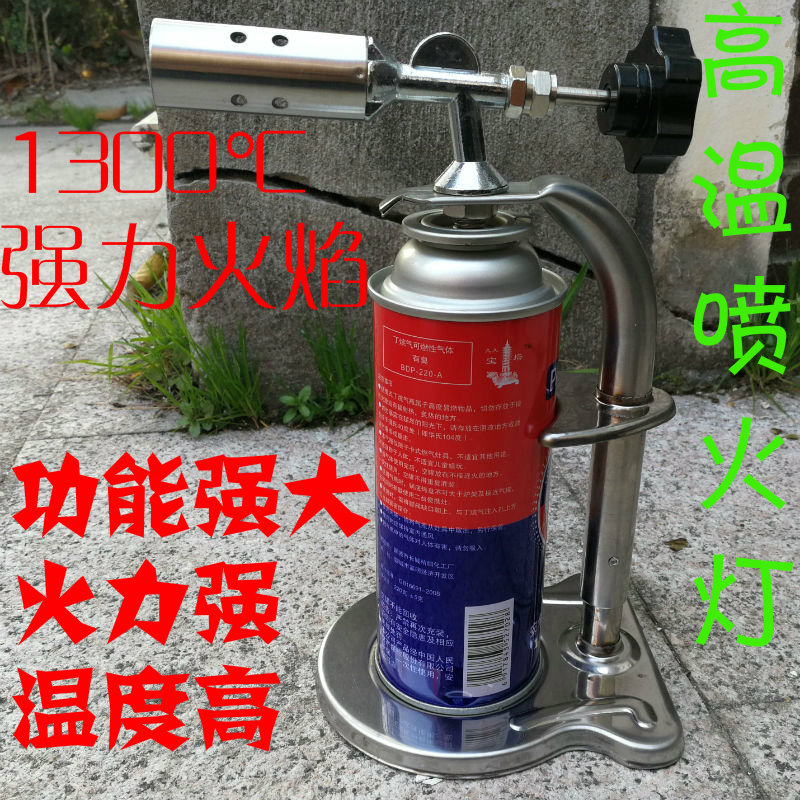gastorch: (143, 17, 703, 773)
